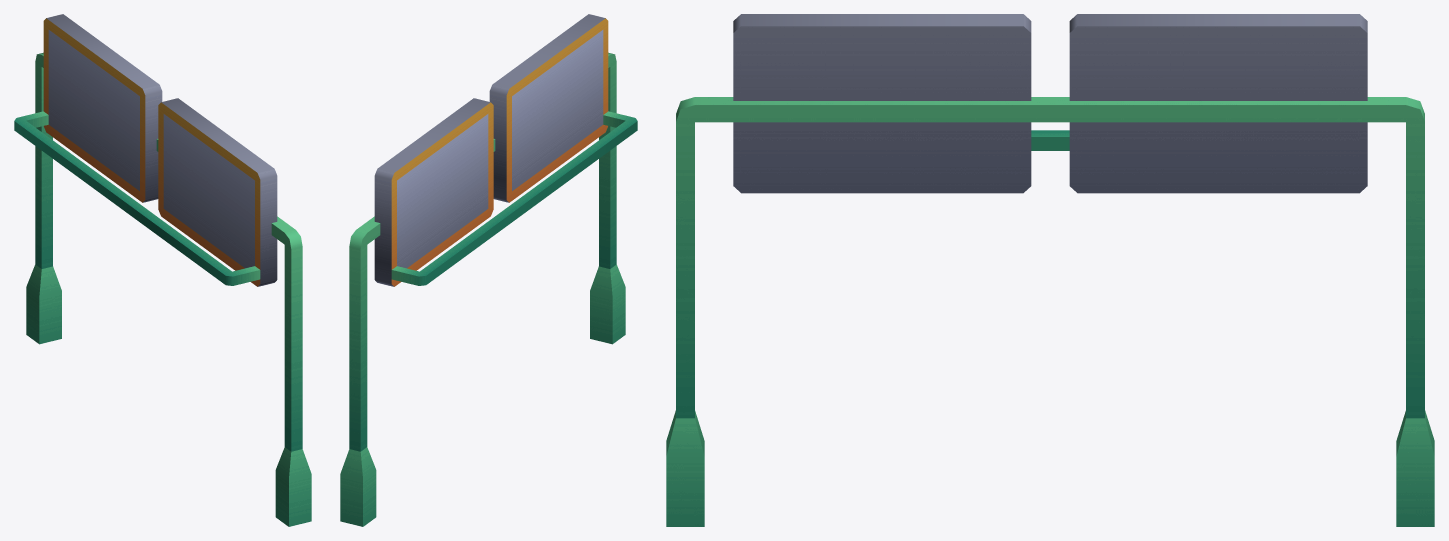
File: sign_highway.glb
3 views of the same model, side by side, from view 1: azimuth 30°, elevation 25°; view 2: azimuth 150°, elevation 25°; view 3: azimuth 270°, elevation 25° (orthographic). The views are drawn at different scales.
Parts seen in each view (by area): view 1: sign-highway; view 2: sign-highway; view 3: sign-highway.
Boxes of the visible parts, x1,y1,x2,y2 form: sign-highway: (14,14,311,526); sign-highway: (340,14,637,526); sign-highway: (666,14,1434,526).
Bounding box in the file's own units: 0.1324 × 0.7074 × 1.
Materials: 1 (1 with a texture image).
